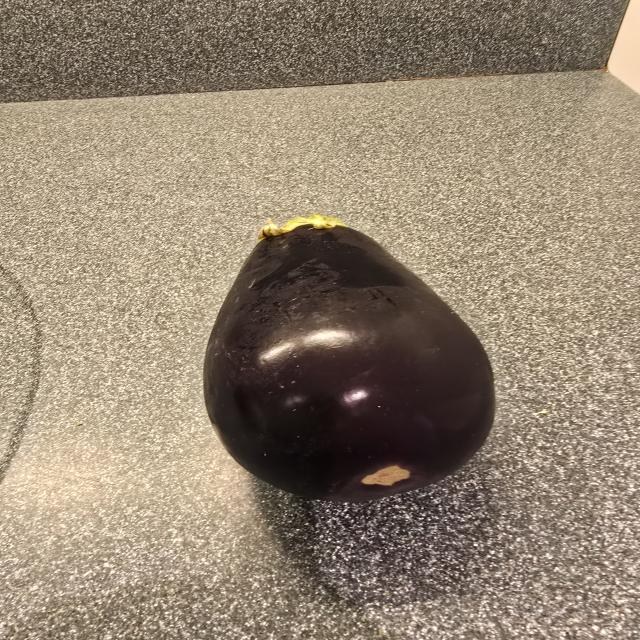Eggplant: (184, 210, 516, 522)
